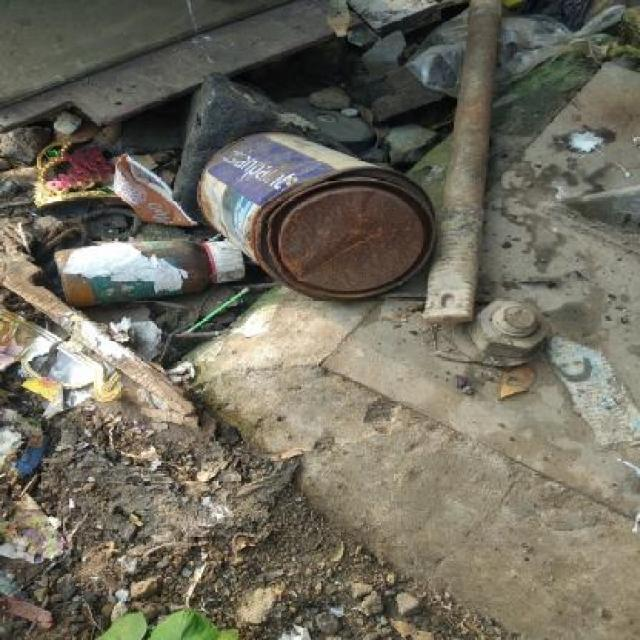garbage: (0, 156, 412, 339), (387, 0, 636, 200), (77, 351, 200, 464), (9, 356, 54, 640), (543, 330, 638, 453)
